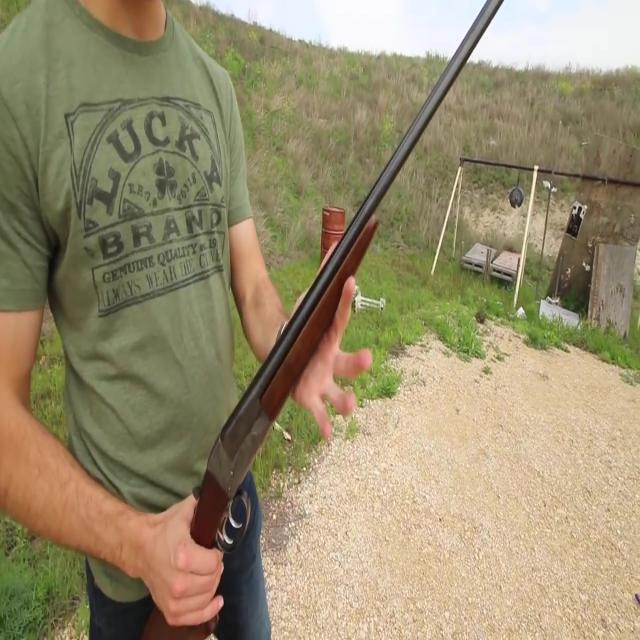Weapon: (150, 0, 512, 640)
